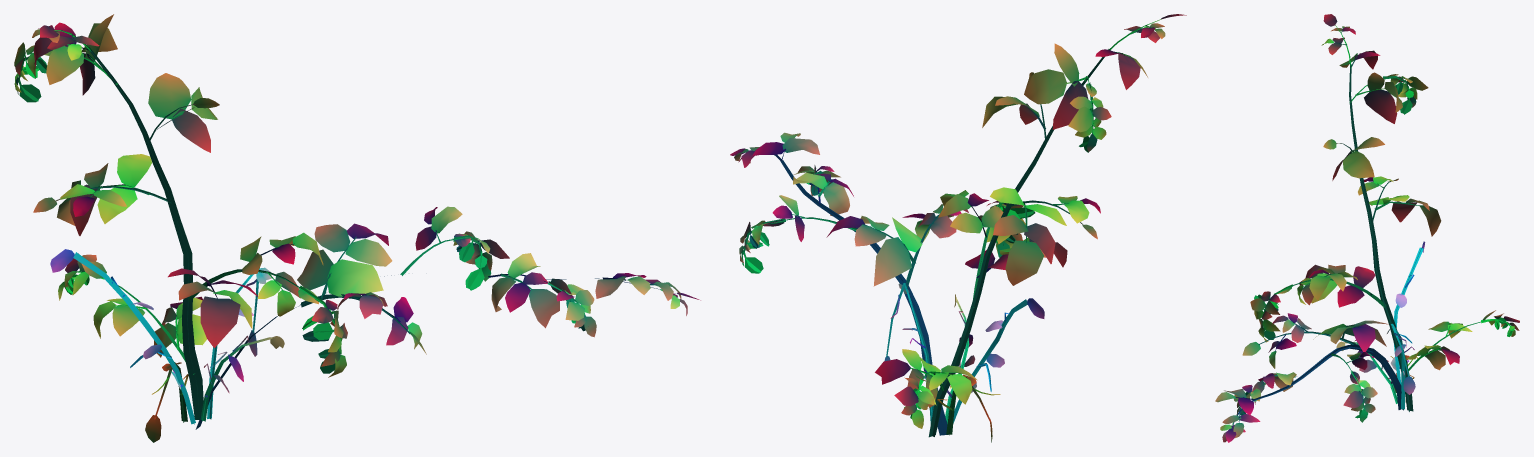
File: Raspberry_wf0oefeja_High_wf0oefeja_VarG_LOD1.fbx
3 views of the same model, side by side, from view 1: azimuth 30°, elevation 25°; view 2: azimuth 150°, elevation 25°; view 3: azimuth 270°, elevation 25° (orthographic). The views are drawn at different scales.
Visible parts, largest first — view 1: _0r5h_VarG_LOD2; view 2: _0r5h_VarG_LOD2; view 3: _0r5h_VarG_LOD2.
Part boxes in pixels (left/top/right/bottom): _0r5h_VarG_LOD2: left=14, top=14, right=700, bottom=442; _0r5h_VarG_LOD2: left=730, top=14, right=1186, bottom=442; _0r5h_VarG_LOD2: left=1215, top=14, right=1519, bottom=442.
Size of the model in its own units: 75.25 by 59.81 by 50.56.
